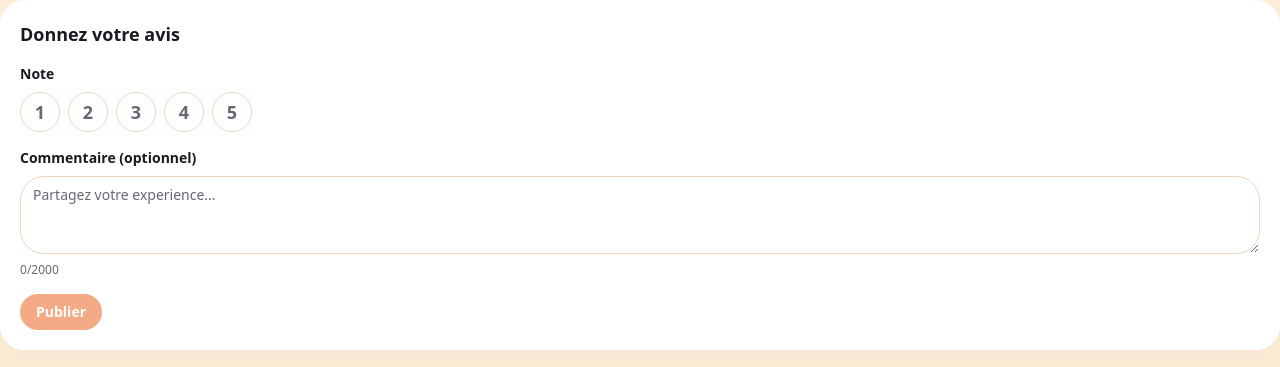
Test: ReviewForm › create mode › requires rating before submission
Expected: the button "Publier" is disabled, [20,294,102,330]
Click the button named "5 etoiles" at coordinates (232, 112), box [212,92,252,132]
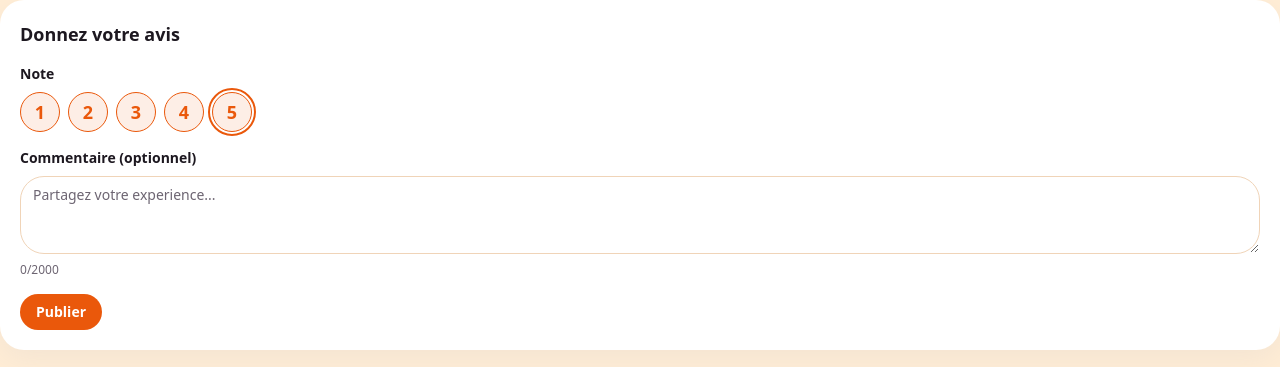
Now the button "Publier" is enabled, box [20,294,102,330]
